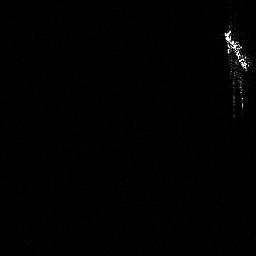ship: (220, 25, 256, 77)
